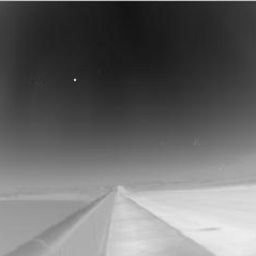Target: (72, 77, 77, 83)
